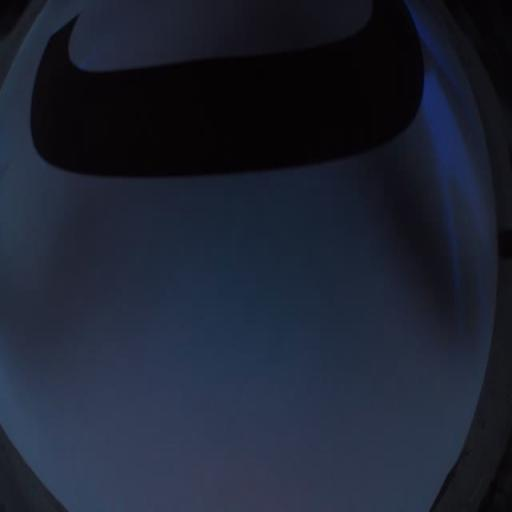J: (30, 0, 424, 179)
